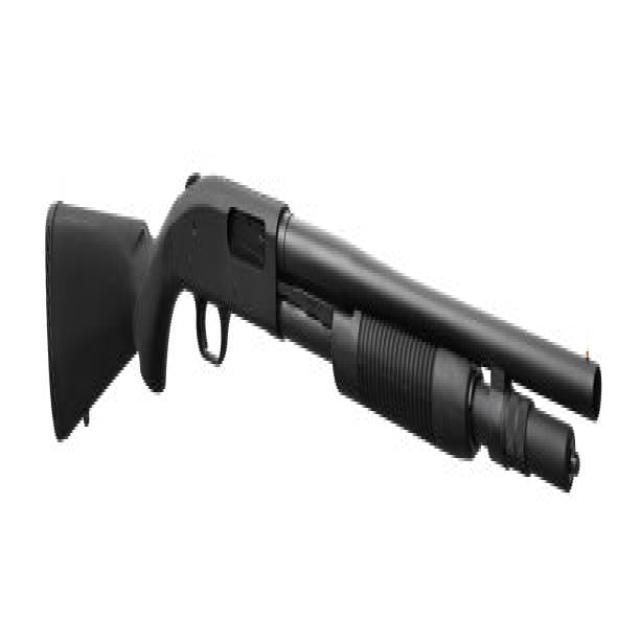rifle: (45, 161, 609, 504)
